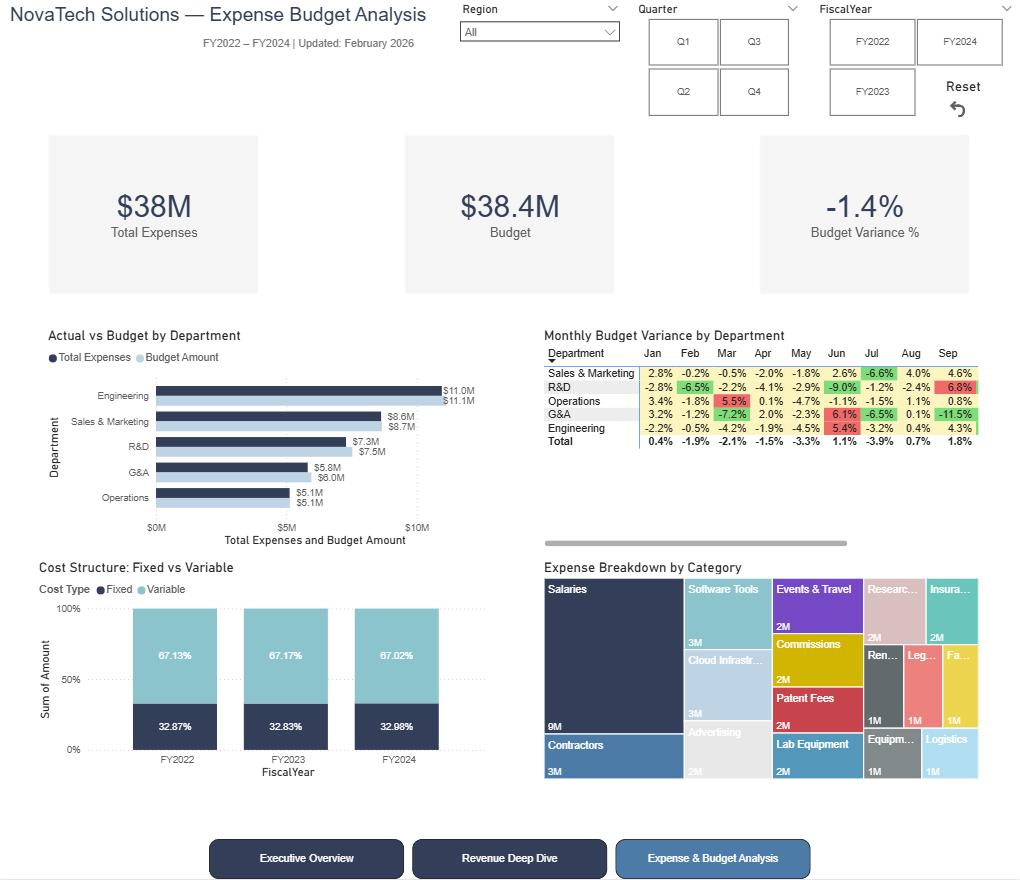

The dashboard page shown, as its layout file describes it:
{"tool":"powerbi","page":{"name":" Expense & Budget Analysis","canvas":[1280,1100],"ordinal":2},"visuals":[{"type":"textbox","box":[10,0,532.2,53.3],"z":0},{"type":"slicer","fields":{"Values":["DateTable.FiscalYear"]},"box":[1013.8,0,266.2,152.5],"z":1000},{"type":"slicer","fields":{"Values":["Revenue.Region"]},"box":[567.5,0,220,76.2],"z":2000},{"type":"slicer","fields":{"Values":["DateTable.Quarter"]},"box":[787.5,0,225,152.5],"z":3000},{"type":"cardVisual","fields":{"Data":["_Measures.Budget Amount v2"]},"box":[490.6,152.5,296.2,233.8],"z":4000},{"type":"cardVisual","fields":{"Data":["_Measures.Total Expenses"]},"box":[46.2,152.5,296.2,233.8],"z":5000},{"type":"cardVisual","fields":{"Data":["_Measures.Budget Variance %"]},"box":[935,152.5,296.2,233.8],"z":6000},{"type":"clusteredBarChart","title":"Actual vs Budget by Department","fields":{"Category":["Expenses.Department"],"Y":["_Measures.Total Expenses","_Measures.Budget Amount v2"]},"box":[58,410,559,280],"z":7000},{"type":"pivotTable","title":"Monthly Budget Variance by Department","fields":{"Rows":["Expenses.Department"],"Columns":["DateTable.MonthName"],"Values":["_Measures.Budget Variance %"]},"box":[678,410,553,280],"z":8000},{"type":"hundredPercentStackedColumnChart","title":"Cost Structure: Fixed vs Variable","fields":{"Series":["Expenses.Cost_Type"],"Y":["Sum(Expenses.Amount)"],"Category":["DateTable.FiscalYear"]},"box":[46,700,571,280],"z":9000},{"type":"treemap","title":"Expense Breakdown by Category","fields":{"Group":["Expenses.Expense_Category"],"Values":["Sum(Expenses.Amount)"]},"box":[678,700,553,280],"z":10000},{"type":"pageNavigator","box":[263.3,1050,753.3,50],"z":10001},{"type":"actionButton","title":"Reset","box":[1185,98.3,71.7,53.3],"z":10002},{"type":"textbox","box":[251.2,42.5,302.5,25],"z":10003}]}

Visuals, with their boxes in screenshot pixels (x1, y1, x2, y2), scaled from the page's 1280x1100 canvas onto the 1020x880 screenshot:
textbox: 8:0:432:43
slicer - DateTable.FiscalYear: 808:0:1019:122
slicer - Revenue.Region: 452:0:628:61
slicer - DateTable.Quarter: 628:0:807:122
cardVisual - _Measures.Budget Amount v2: 391:122:627:309
cardVisual - _Measures.Total Expenses: 37:122:273:309
cardVisual - _Measures.Budget Variance %: 745:122:981:309
"Actual vs Budget by Department" clusteredBarChart: 46:328:492:552
"Monthly Budget Variance by Department" pivotTable: 540:328:981:552
"Cost Structure: Fixed vs Variable" hundredPercentStackedColumnChart: 37:560:492:784
"Expense Breakdown by Category" treemap: 540:560:981:784
pageNavigator: 210:840:810:879
"Reset" actionButton: 944:79:1001:121
textbox: 200:34:441:54
